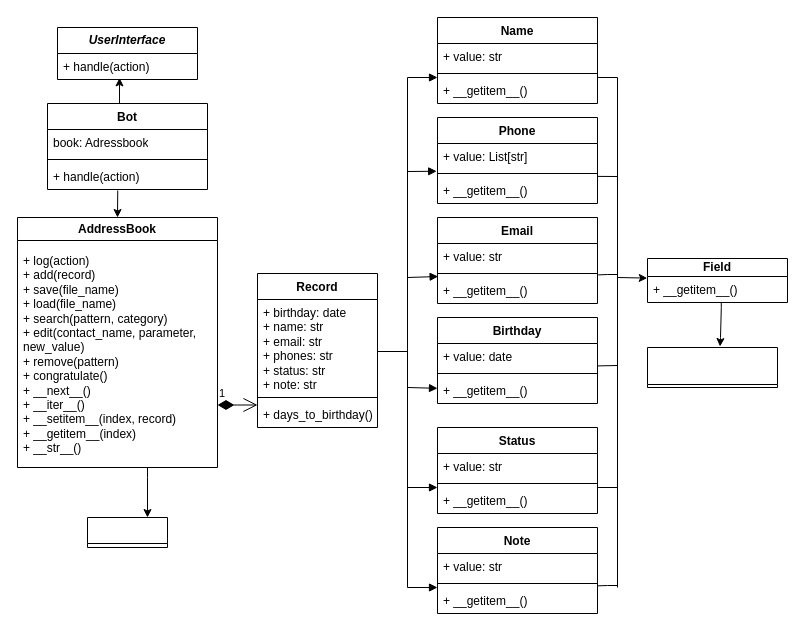
This 805x634 diagram has some shape labels left out. Each missing label, with the centre of its shape:
"ABC" belongs at (x=712, y=367).
"UserList" belongs at (x=127, y=532).
